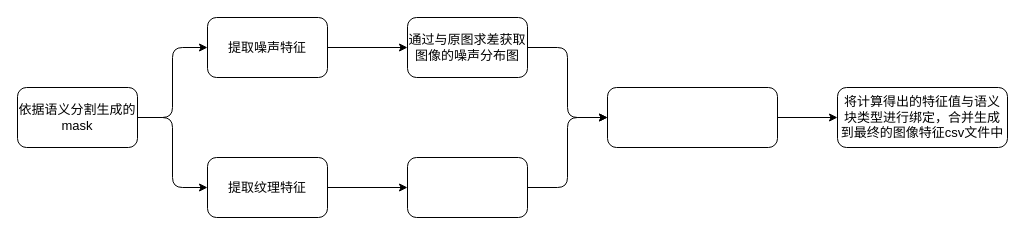
Image size: 1025x235. Some labels were removed from this diagram. The box of each missing label's shape, as (x1, y1, x2, y2) in pixels:
根据GLCM生成图像局部特征统计量: (406, 156, 528, 218)
根据各语义块的图像面积大小，求出单位图像尺寸内的噪声密度和统计量均值: (606, 86, 778, 148)
